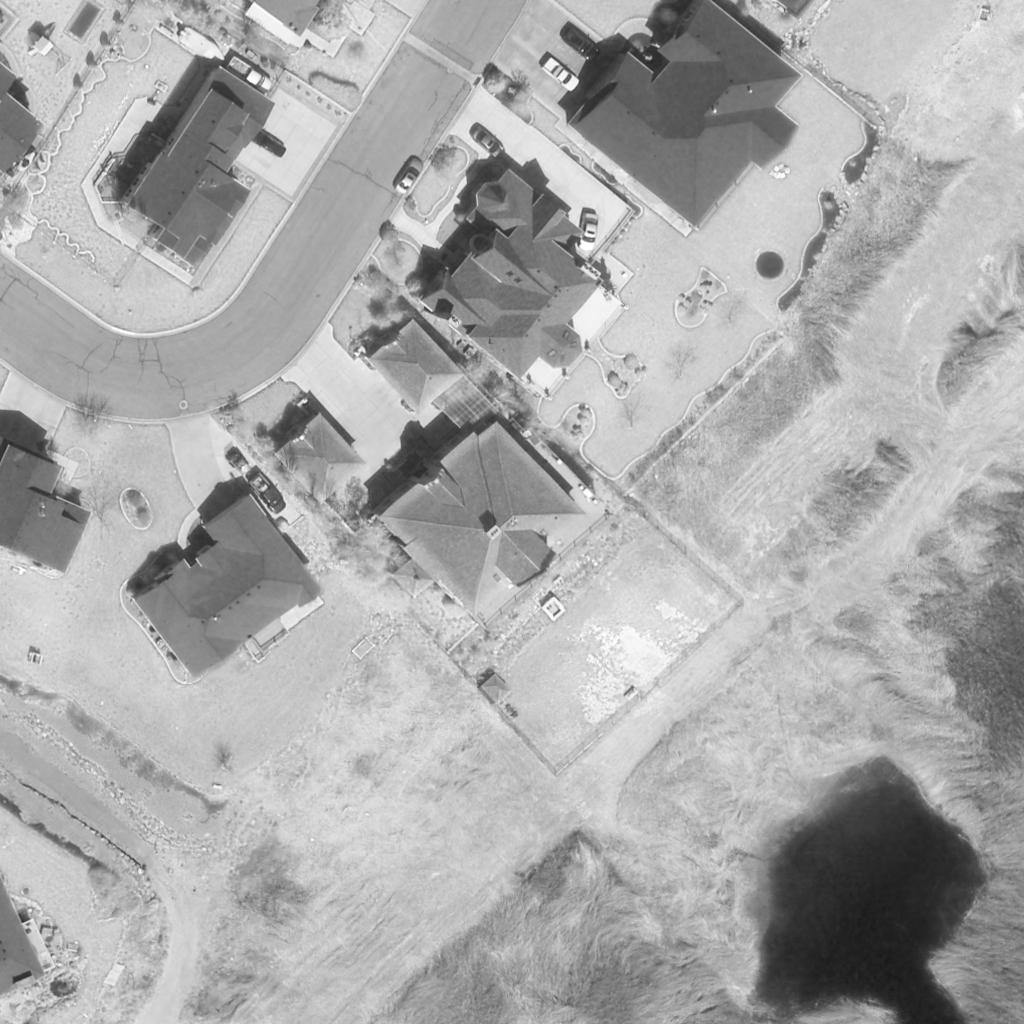vehicle: (224, 57, 278, 95), (244, 470, 288, 516), (555, 27, 601, 63), (392, 154, 424, 198), (469, 123, 505, 159), (543, 56, 581, 90), (577, 210, 599, 252), (250, 131, 286, 155)
